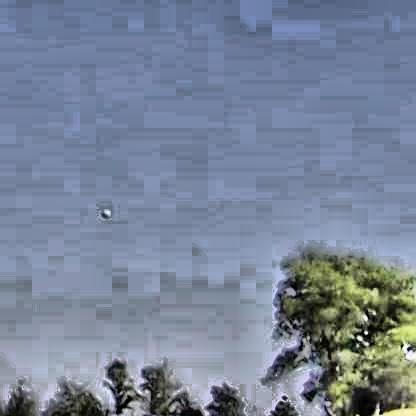golfball: (98, 207, 108, 217)
